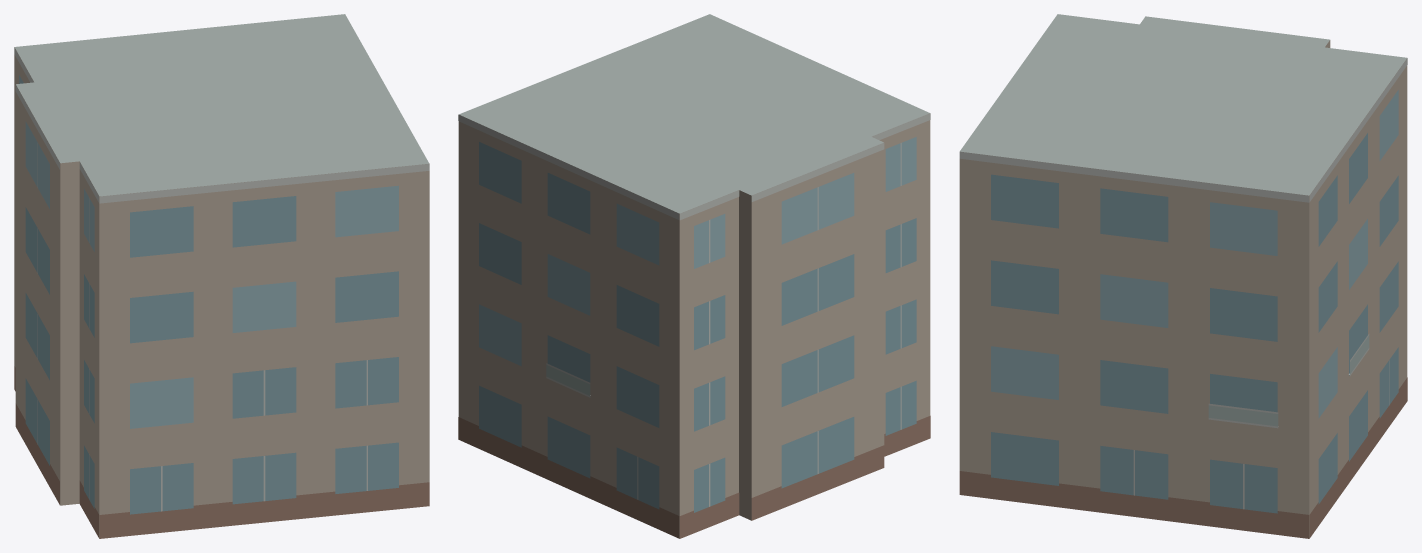
Rendered from survey-upis-32872531.glb.
3 views of the same model, side by side, from view 1: azimuth 30°, elevation 25°; view 2: azimuth 150°, elevation 25°; view 3: azimuth 270°, elevation 25° (orthographic). The views are drawn at different scales.
Parts seen in each view (by area): view 1: survey-upis-32872531.tmp; view 2: survey-upis-32872531.tmp; view 3: survey-upis-32872531.tmp.
Boxes of the visible parts, x1=… form: survey-upis-32872531.tmp: x1=14, y1=14, x2=429, y2=538; survey-upis-32872531.tmp: x1=458, y1=14, x2=930, y2=538; survey-upis-32872531.tmp: x1=959, y1=14, x2=1407, y2=538.
Bounding box in the file's own units: 13.34 × 11.75 × 13.91.
